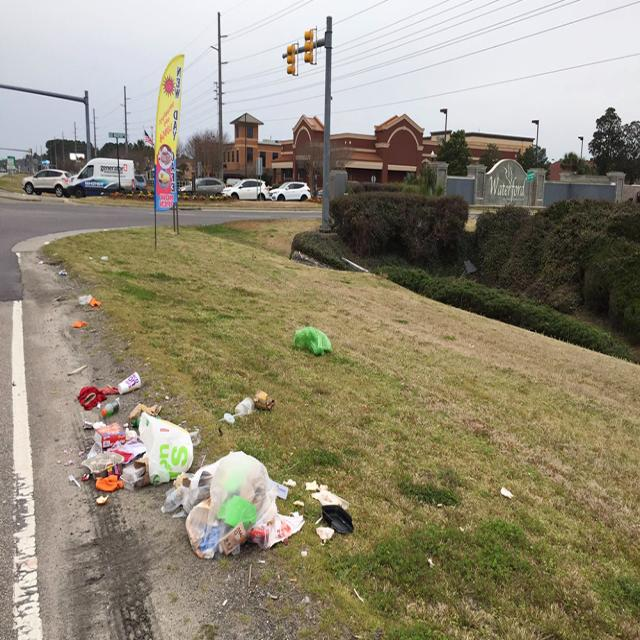garbage: (38, 287, 409, 605)
